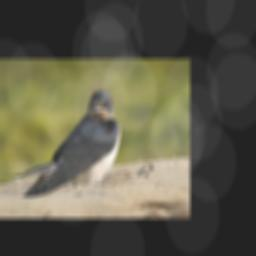Swallow: (10, 90, 122, 196)
